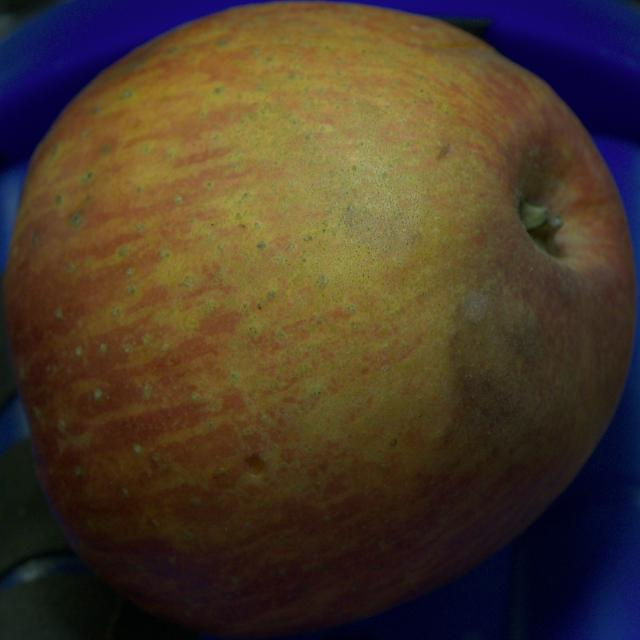apple: (5, 2, 635, 637)
bruise: (245, 456, 264, 476)
scratch: (438, 143, 450, 159)
